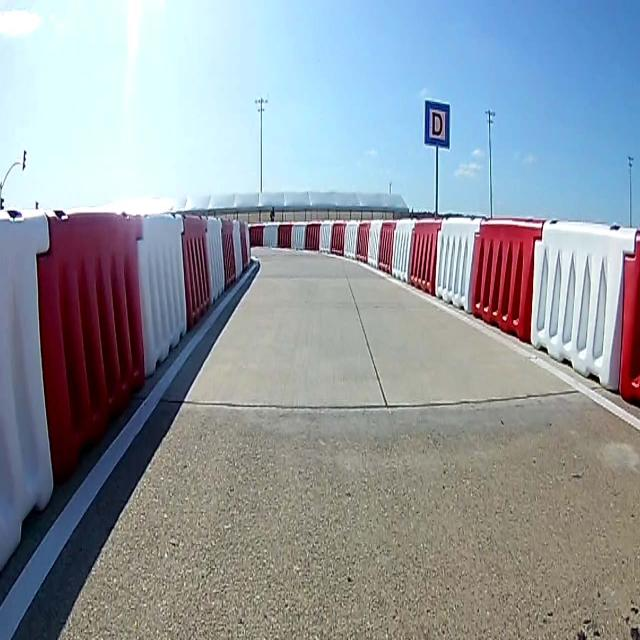durak: (423, 99, 450, 149)
